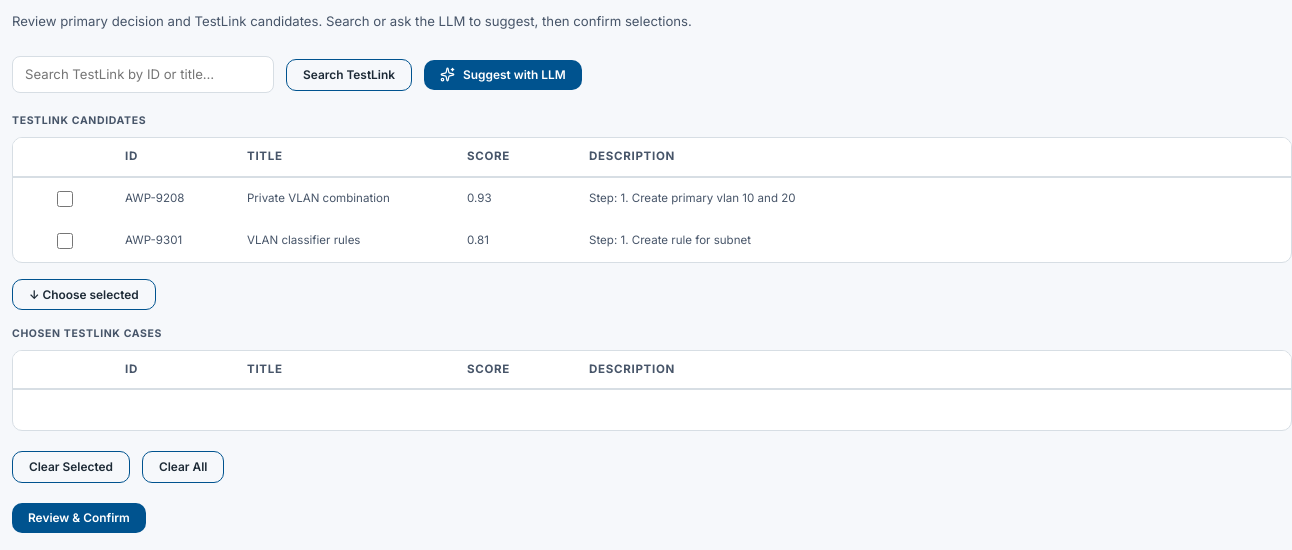
Test: OgCandidatePicker › search › shows an empty table when nothing matches
Type "nothing" into the field with placeholder "Search TestLink by ID or title…" at (143, 75), box left=12, top=56, right=274, bottom=93
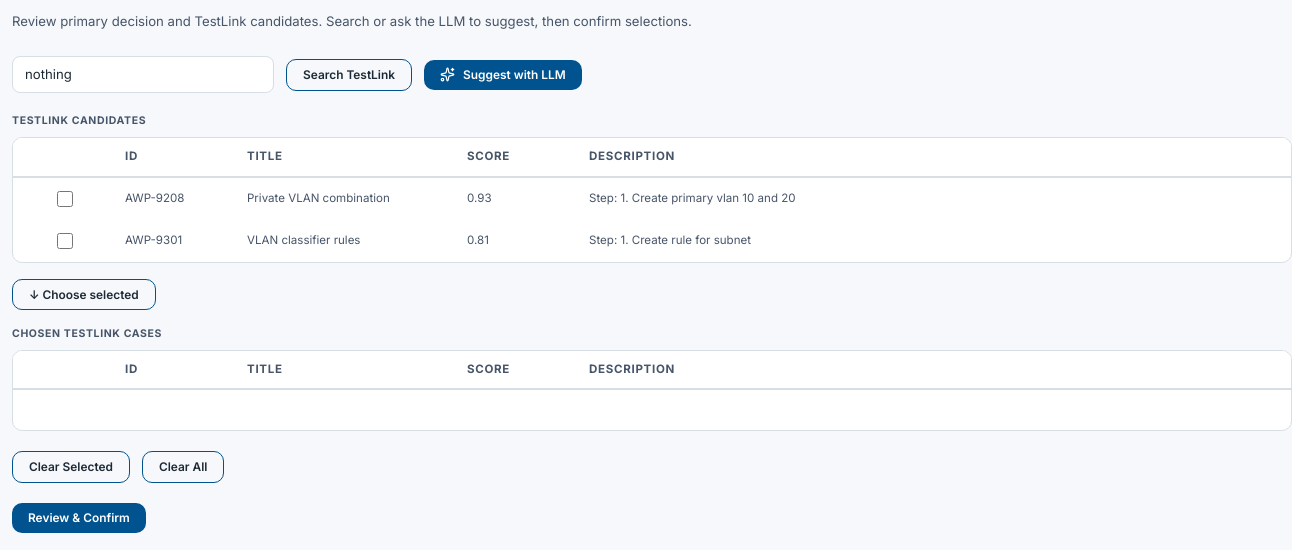
Click the button "Search TestLink" at (349, 75), box left=286, top=59, right=412, bottom=91
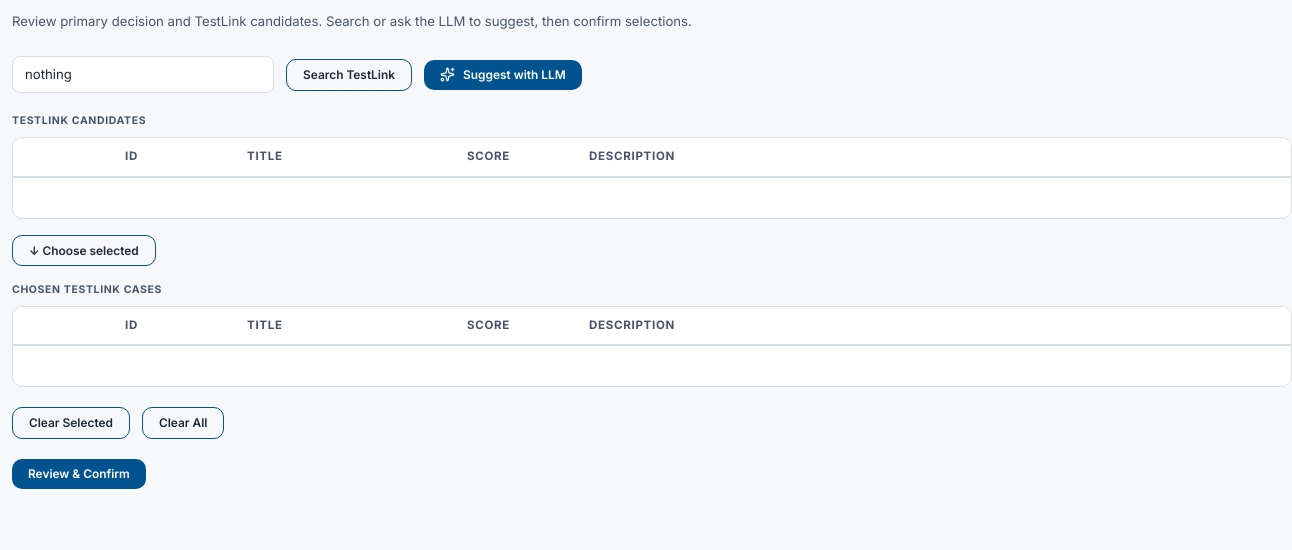
Expected: the button "AWP-9208" is gone
